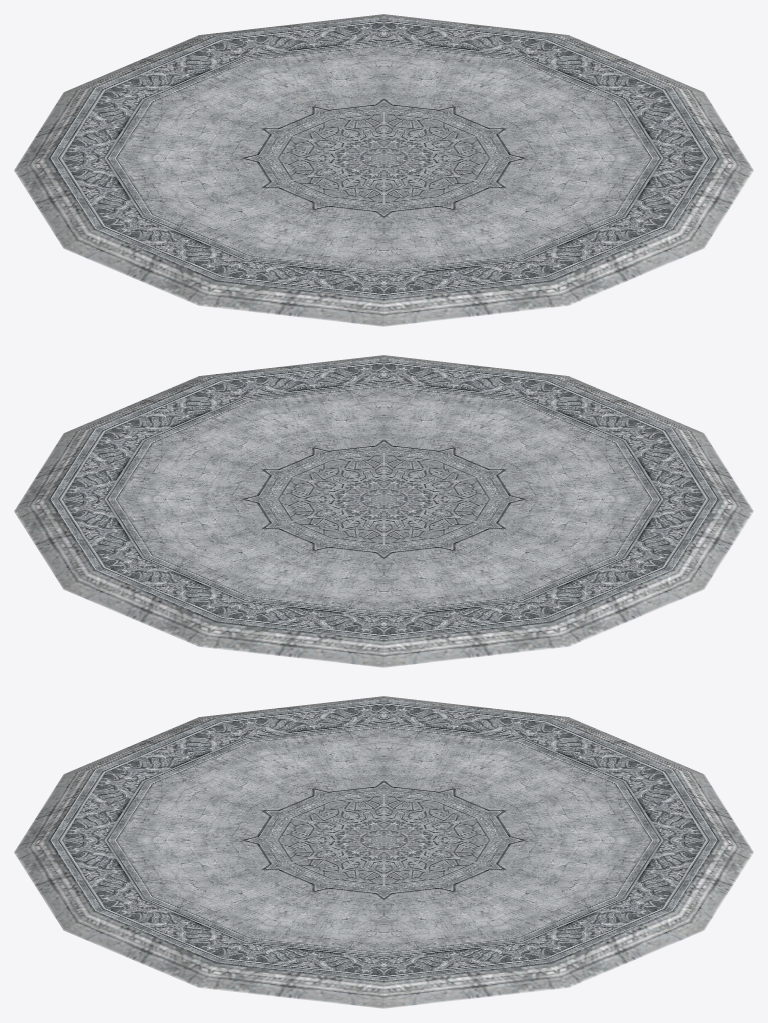
File: arena.gltf
3 renders of one model, top to bottom at view 1: azimuth 30°, elevation 25°; view 2: azimuth 150°, elevation 25°; view 3: azimuth 270°, elevation 25°, orthographic.
Parts seen in each view (by area): view 1: Arena_anakim_B_03.mo; view 2: Arena_anakim_B_03.mo; view 3: Arena_anakim_B_03.mo.
Part boxes in pixels (left/top/right/bottom): Arena_anakim_B_03.mo: left=14, top=14, right=753, bottom=326; Arena_anakim_B_03.mo: left=14, top=355, right=753, bottom=667; Arena_anakim_B_03.mo: left=14, top=696, right=753, bottom=1008.
Bounding box in the file's own units: 2.97 × 0.0541 × 2.97.
2 materials, 2 textured.
